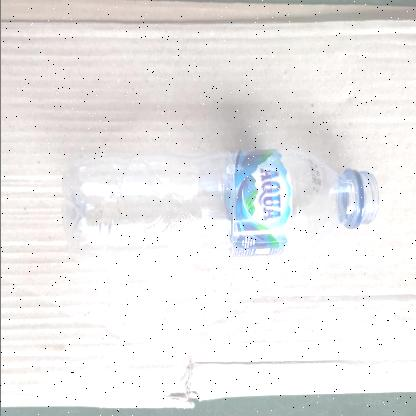Plastic Bottle: (57, 148, 380, 260)
